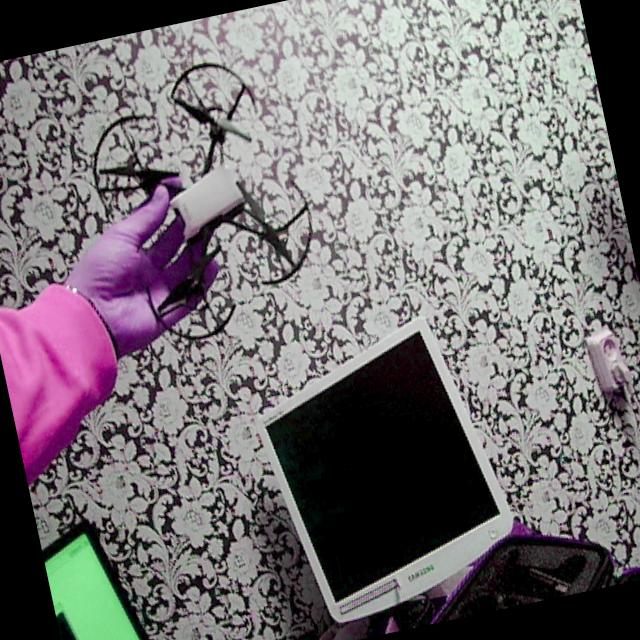drone: (64, 38, 347, 363)
